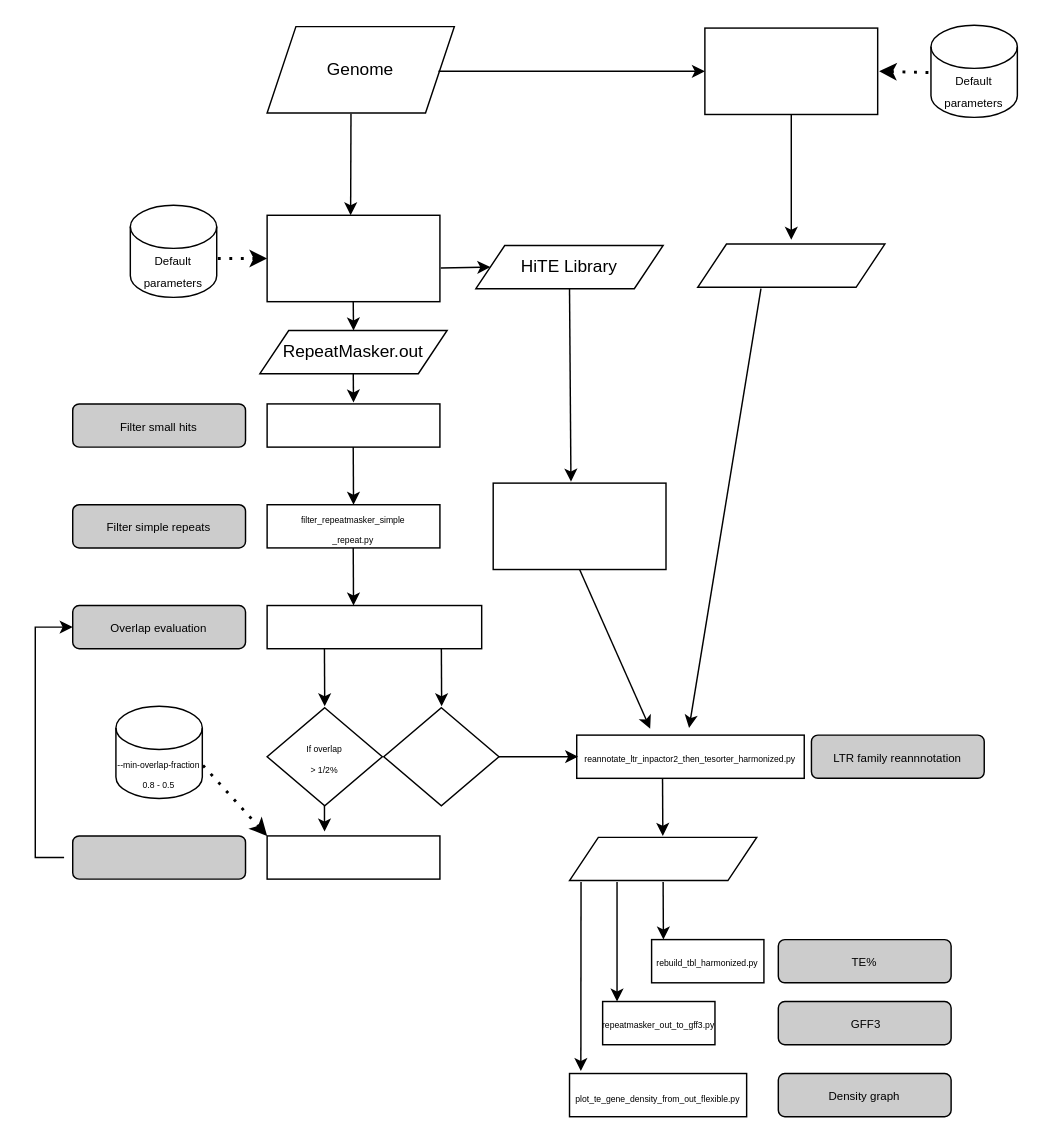
This 1043x1142 diagram has some shape labels left out. The shapes that lost their labels are listed below. From the top down, each one's centre as x and y in pixels, then its label:
At (x=790, y=70): "Inpactor2".
At (x=353, y=258): "HiTE v3.3.2".
At (x=790, y=265): "Inpactor 2 Library".
At (x=353, y=424): "filter_repeatmaske r _min_length.py".
At (x=579, y=526): "TEsorter".
At (x=374, y=626): "count_TE_overlaps_out.py".
At (x=440, y=756): "If overlap < 1/2%".
At (x=158, y=856): "Filter overlapp based on RM score".
At (x=353, y=856): "filter_annotation_score_out.py".
At (x=662, y=858): ".out file".
